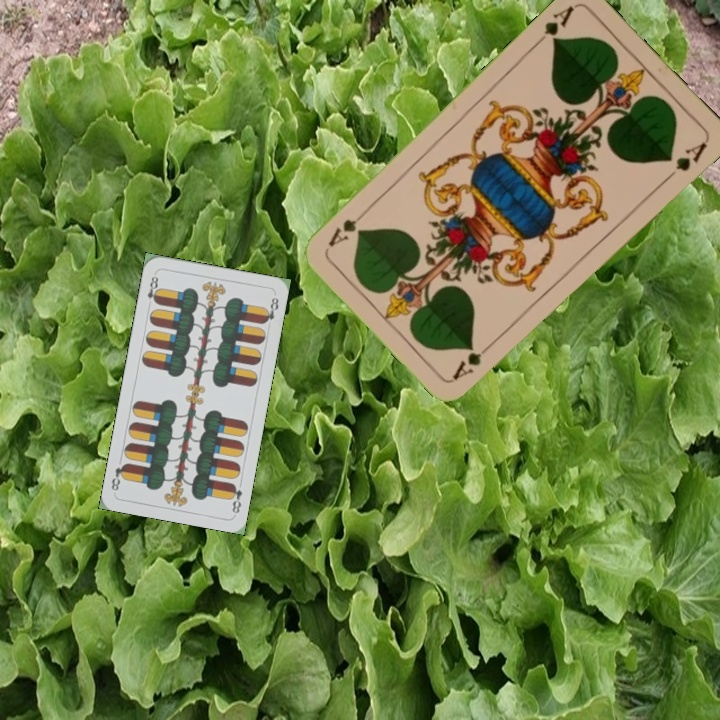E8: (143, 269, 162, 309), (226, 479, 245, 516)
GA: (448, 337, 497, 383), (531, 1, 577, 49)
